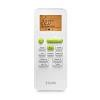remote control: (30, 7, 70, 96)
